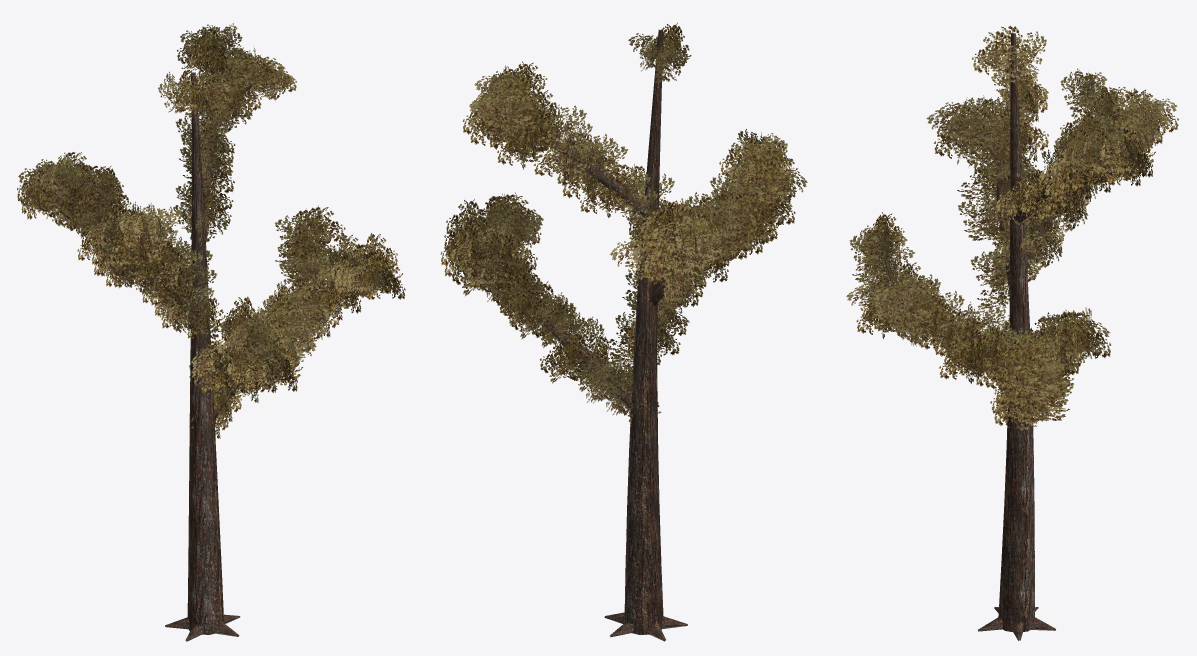
File: tree_3d_06_golden_beige_lod0.glb
3 views of the same model, side by side, from view 1: azimuth 30°, elevation 25°; view 2: azimuth 150°, elevation 25°; view 3: azimuth 270°, elevation 25° (orthographic). The views are drawn at different scales.
Parts seen in each view (by area): view 1: foliage_cards, wood_geometry; view 2: foliage_cards, wood_geometry; view 3: foliage_cards, wood_geometry.
Boxes of the visible parts, x1,y1,x2,y2 form: foliage_cards: (17, 23, 405, 438); wood_geometry: (46, 64, 384, 641); foliage_cards: (440, 22, 807, 424); wood_geometry: (477, 29, 772, 641); foliage_cards: (846, 25, 1179, 430); wood_geometry: (880, 33, 1155, 640).
Size of the model in its own units: 5.21 by 8.1 by 4.24.
Materials: 2 (2 with a texture image).
